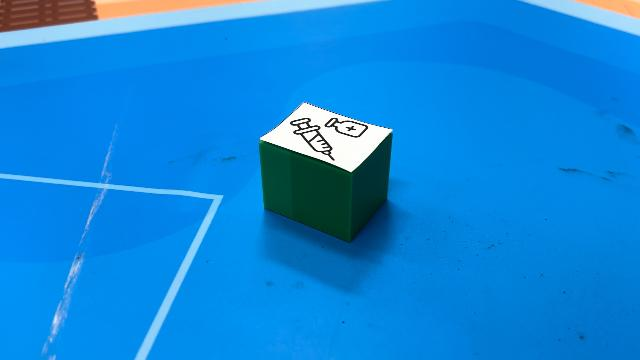syringe: (258, 101, 394, 243)
